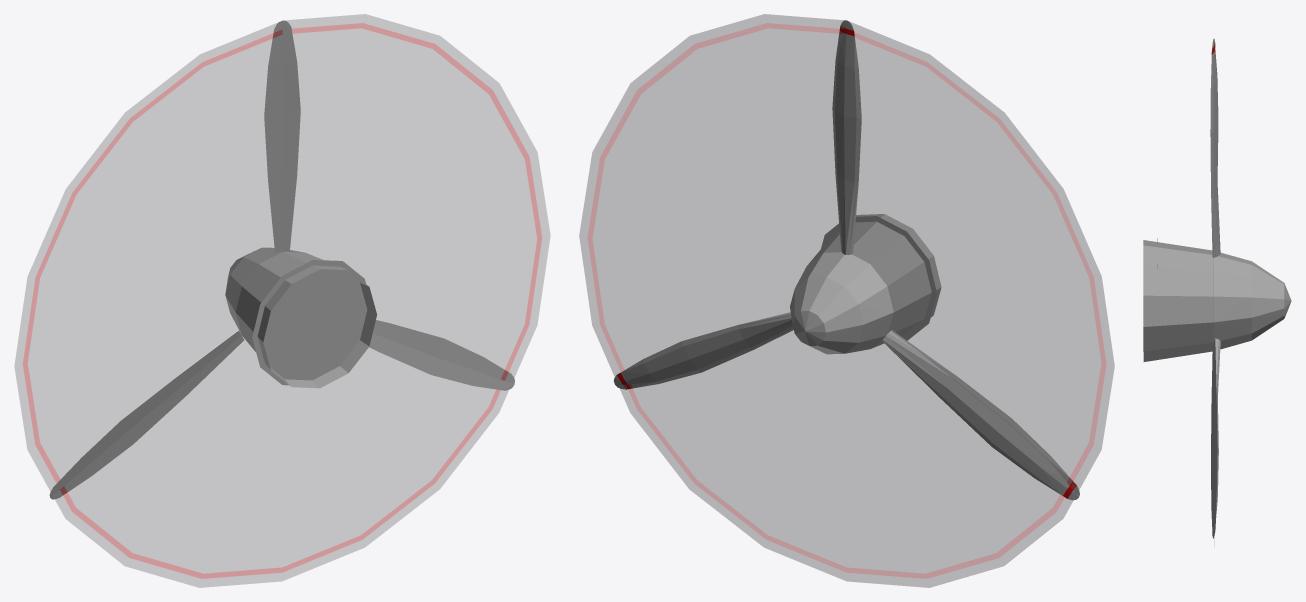
Rendered from Prop_1shikiRikukou.obj.
3 renders of one model, left to right at view 1: azimuth 30°, elevation 25°; view 2: azimuth 150°, elevation 25°; view 3: azimuth 270°, elevation 25°, orthographic. The views are drawn at different scales.
Visible parts, largest first — view 1: ShapeIndexedFaceSet.186_ShapeIndexedFaceSet.187, ShapeIndexedFaceSet.019_ShapeIndexedFaceSet.020, ShapeIndexedFaceSet.187_ShapeIndexedFaceSet, ShapeIndexedFaceSet.144_ShapeIndexedFaceSet.145, ShapeIndexedFaceSet.146_ShapeIndexedFaceSet.147, ShapeIndexedFaceSet.148_ShapeIndexedFaceSet.149; view 2: ShapeIndexedFaceSet.186_ShapeIndexedFaceSet.187, ShapeIndexedFaceSet.019_ShapeIndexedFaceSet.020, ShapeIndexedFaceSet.187_ShapeIndexedFaceSet, ShapeIndexedFaceSet.146_ShapeIndexedFaceSet.147, ShapeIndexedFaceSet.148_ShapeIndexedFaceSet.149, ShapeIndexedFaceSet.144_ShapeIndexedFaceSet.145; view 3: ShapeIndexedFaceSet.019_ShapeIndexedFaceSet.020, ShapeIndexedFaceSet.144_ShapeIndexedFaceSet.145, ShapeIndexedFaceSet.148_ShapeIndexedFaceSet.149.
Part boxes in pixels (x1,y1,x2,y2): ShapeIndexedFaceSet.186_ShapeIndexedFaceSet.187: (14,14,550,587); ShapeIndexedFaceSet.019_ShapeIndexedFaceSet.020: (225,247,376,388); ShapeIndexedFaceSet.187_ShapeIndexedFaceSet: (23,23,541,578); ShapeIndexedFaceSet.144_ShapeIndexedFaceSet.145: (264,20,300,252); ShapeIndexedFaceSet.146_ShapeIndexedFaceSet.147: (49,331,243,499); ShapeIndexedFaceSet.148_ShapeIndexedFaceSet.149: (369,320,514,390); ShapeIndexedFaceSet.186_ShapeIndexedFaceSet.187: (579,14,1114,587); ShapeIndexedFaceSet.019_ShapeIndexedFaceSet.020: (790,214,941,354); ShapeIndexedFaceSet.187_ShapeIndexedFaceSet: (588,23,1105,578); ShapeIndexedFaceSet.146_ShapeIndexedFaceSet.147: (882,330,1079,500); ShapeIndexedFaceSet.148_ShapeIndexedFaceSet.149: (614,312,793,389); ShapeIndexedFaceSet.144_ShapeIndexedFaceSet.145: (832,20,861,254); ShapeIndexedFaceSet.019_ShapeIndexedFaceSet.020: (1143,238,1291,361); ShapeIndexedFaceSet.144_ShapeIndexedFaceSet.145: (1210,38,1220,257); ShapeIndexedFaceSet.148_ShapeIndexedFaceSet.149: (1211,338,1220,538).
Size of the model in its own units: 2.24 by 2.24 by 0.5743.
